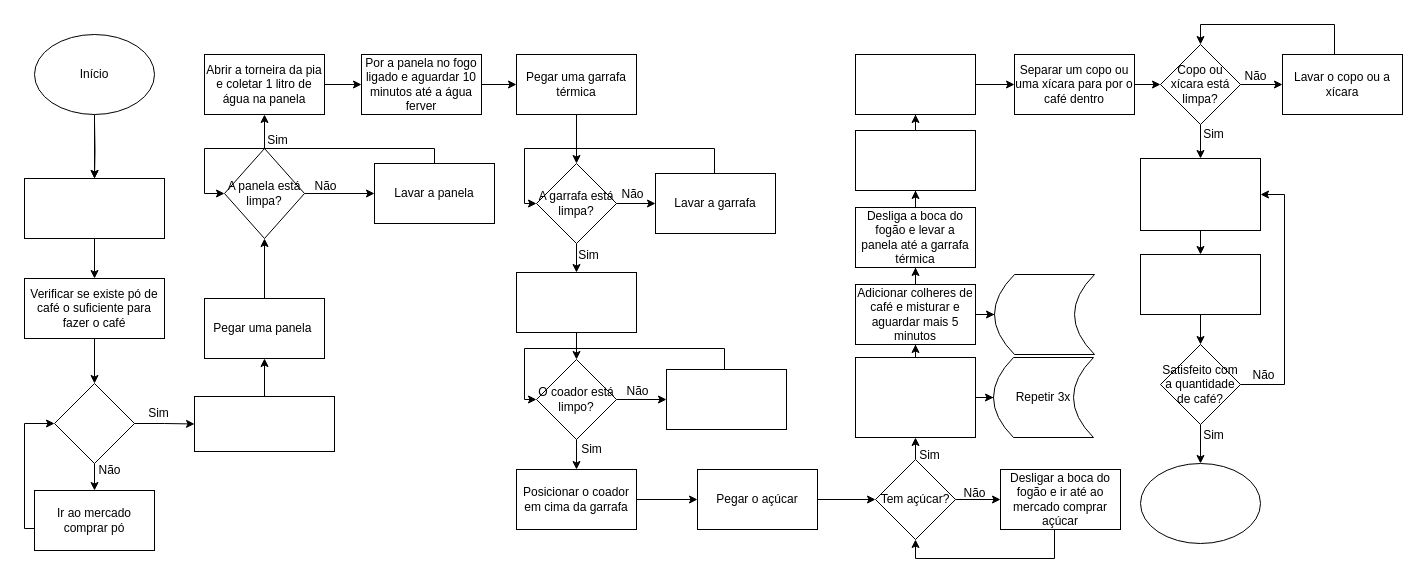
This 1420x584 diagram has some shape labels left out. Here are the shapes that lost their labels. From the top down, the box of each, then its label:
(854, 54, 976, 114): Lavar a panela de café
(854, 130, 976, 190): Despejar o café no coador e coador posicionado para dentro da garrafa
(24, 178, 164, 238): Abrir a porta do armário
(1140, 158, 1260, 230): Despejar a quantidade necessária de café para tomar dentro do copo ou da xícara
(516, 272, 636, 332): Pegar o coador
(1140, 254, 1260, 314): Lavar a panela de café suja
(994, 274, 1094, 354): Repetir 5x
(666, 368, 786, 430): Lavar o coador
(854, 356, 976, 438): Pegar uma colher limpar e adicionar açúcar dentro da água fervente
(54, 382, 134, 464): Tem pó de café?
(194, 396, 334, 452): Acender o fogo do fogão
(1140, 462, 1260, 544): Fim
